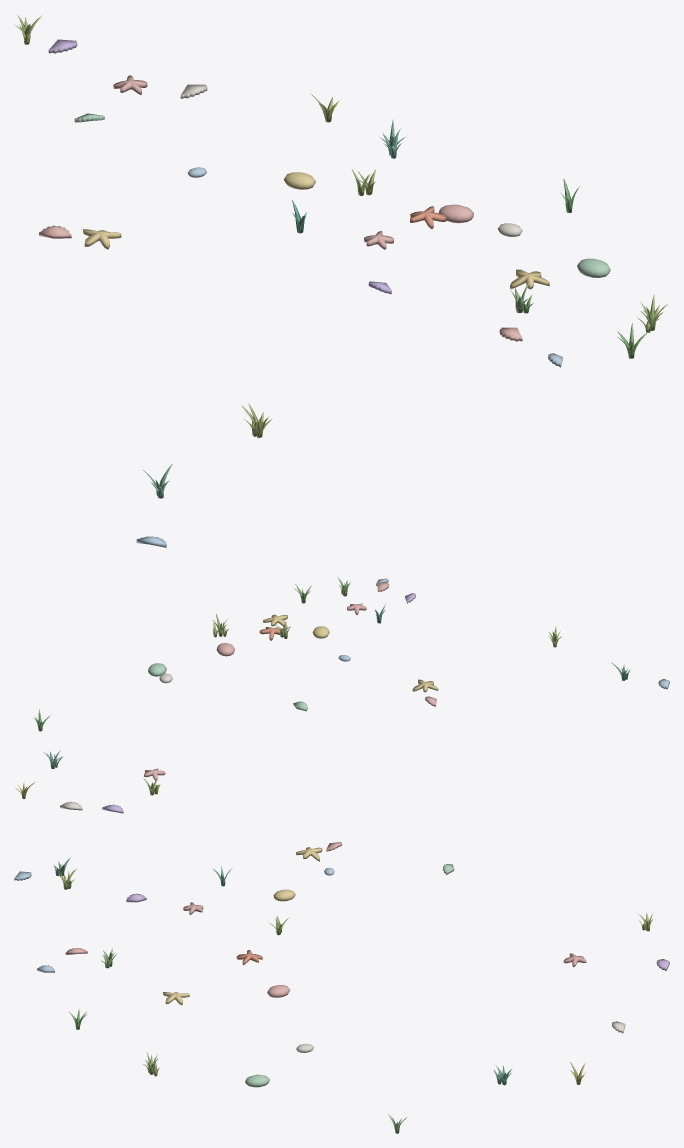
The model's file is W2_FloraRing_11_10.fbx.
3 views of the same model, one above another, from view 1: azimuth 30°, elevation 25°; view 2: azimuth 150°, elevation 25°; view 3: azimuth 270°, elevation 25° (orthographic). The views are drawn at different scales.
Visible parts, largest first — view 1: W2_FloraRing_11_10; view 2: W2_FloraRing_11_10; view 3: W2_FloraRing_11_10.
Boxes of the visible parts, x1,y1,x2,y2 form: W2_FloraRing_11_10: [15, 15, 668, 547]; W2_FloraRing_11_10: [15, 577, 669, 813]; W2_FloraRing_11_10: [14, 842, 669, 1133].
Size of the model in its own units: 3.31 by 0.8823 by 3.9.
